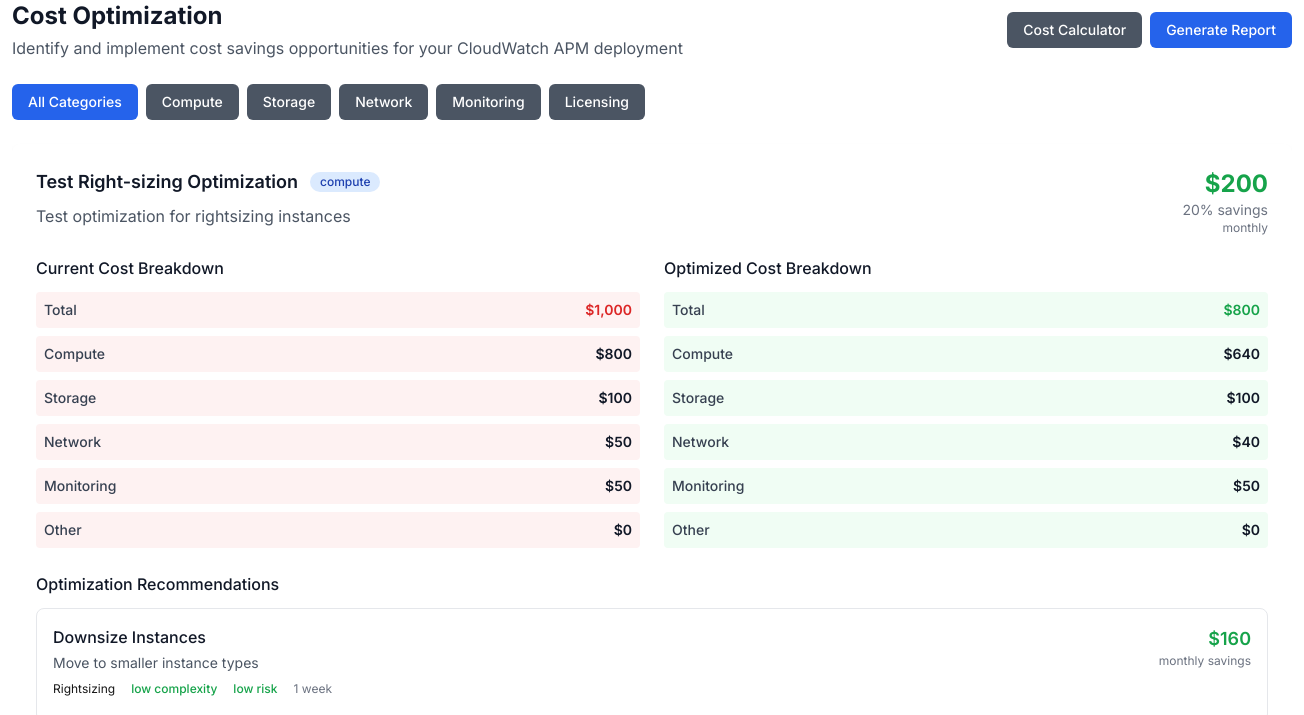
Test: CostOptimizationCalculator › calculates potential savings in calculator
Note: Open calculator
What coordinates should you click on to do the following:
click the button "Cost Calculator"
I would click on:
 (1075, 30)
Its box is [1007,12,1142,48].
(page scrolled)
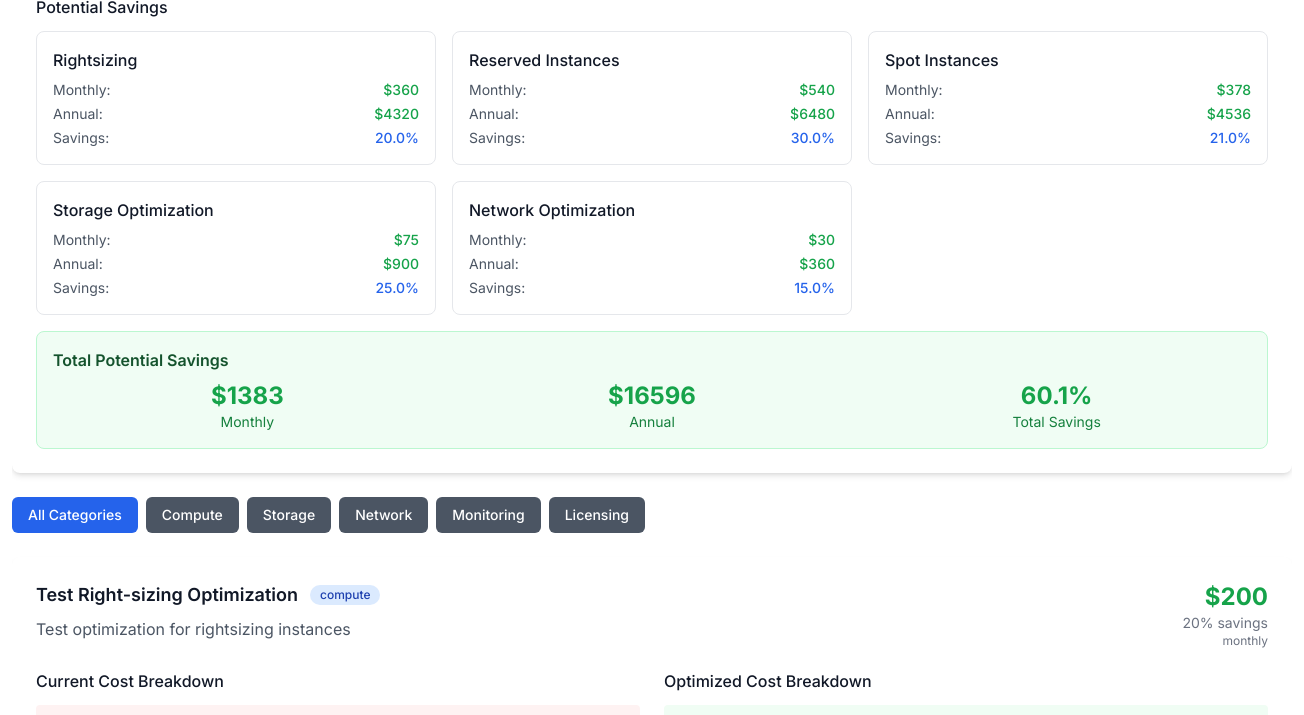
Expected: the heading "Total Potential Savings" is shown, [53,350,229,370]
